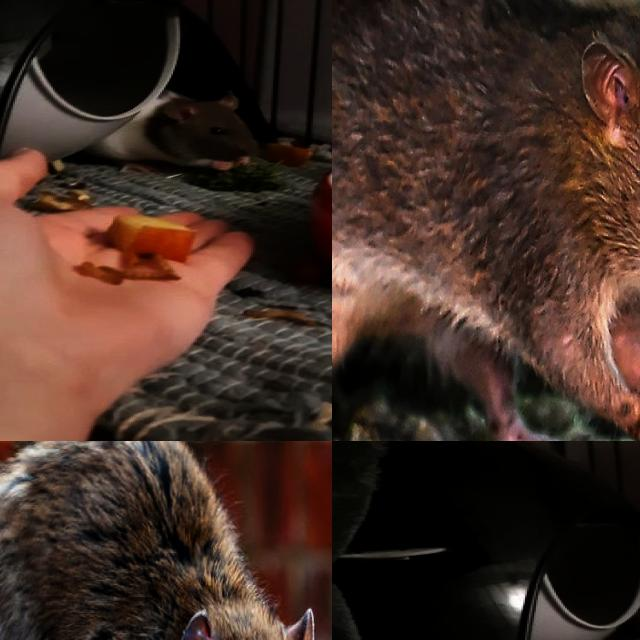rat: (332, 0, 640, 404), (0, 441, 332, 640), (87, 92, 262, 175)
